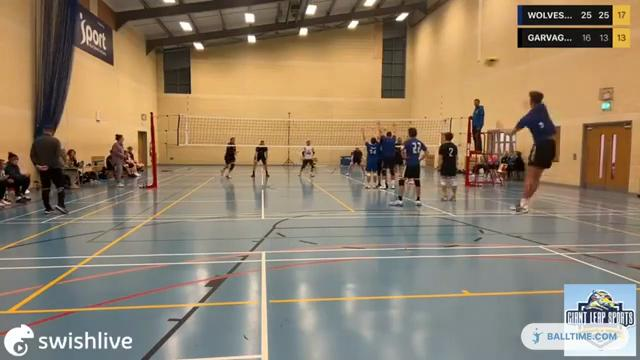battuta: (494, 88, 558, 217)
